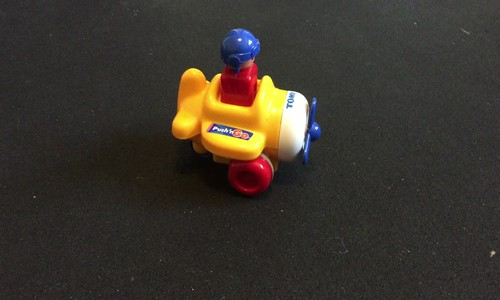toy: (148, 24, 326, 195)
